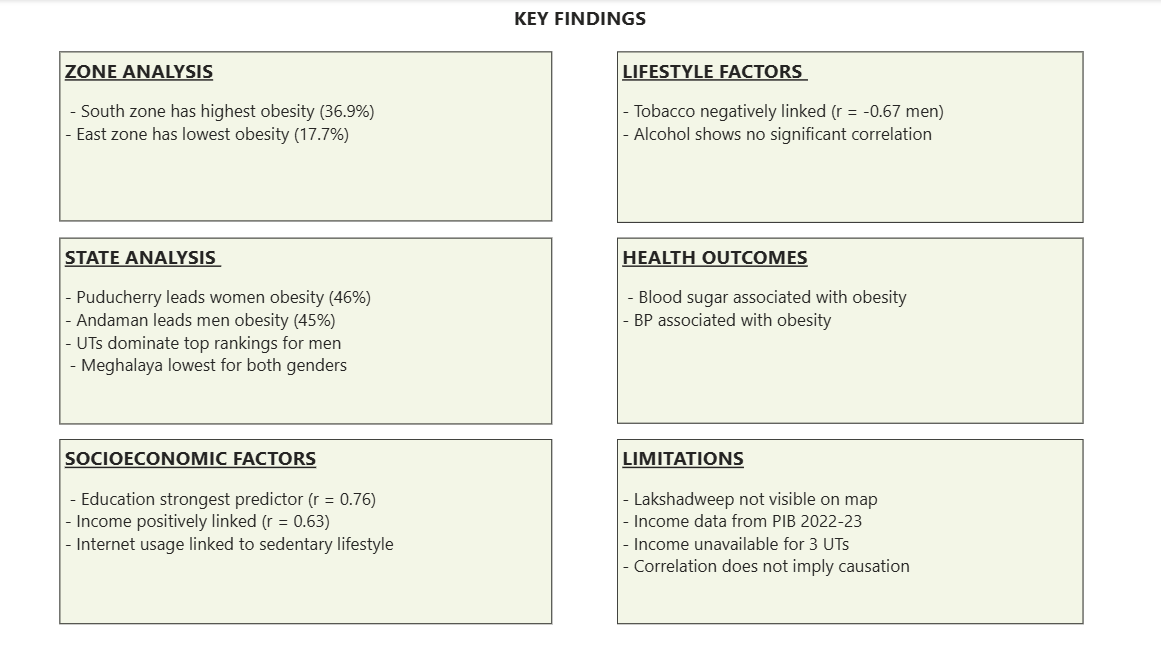

The dashboard page shown, as its layout file describes it:
{"tool":"powerbi","page":{"name":"Key Findings","canvas":[1280,720],"ordinal":5},"visuals":[{"type":"textbox","box":[0,0,1280.3,57.6],"z":0},{"type":"textbox","box":[68.6,57.6,540.7,186.6],"z":1},{"type":"textbox","box":[68.6,262.1,540.7,204.5],"z":2},{"type":"textbox","box":[68.6,483,540.7,203.1],"z":3},{"type":"textbox","box":[680.6,57.6,511.8,188],"z":4},{"type":"textbox","box":[681,262,512,204],"z":5},{"type":"textbox","box":[680.6,483,511.8,203.1],"z":6}]}

Visuals, with their boxes in screenshot pixels (x1, y1, x2, y2), scaled from the page's 1280x720 canvas onto the 1161x652 screenshot:
textbox: (0,0,1160,52)
textbox: (62,52,553,221)
textbox: (62,237,553,423)
textbox: (62,437,553,621)
textbox: (617,52,1082,222)
textbox: (618,237,1082,422)
textbox: (617,437,1082,621)
